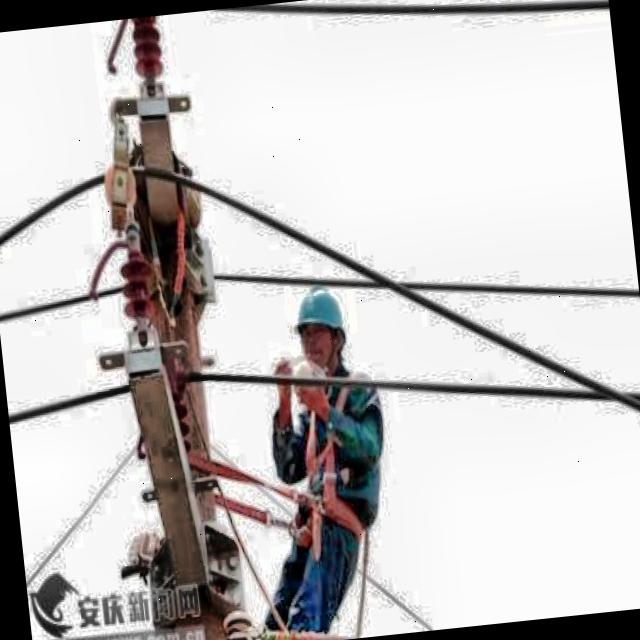helmet: (286, 280, 356, 374)
